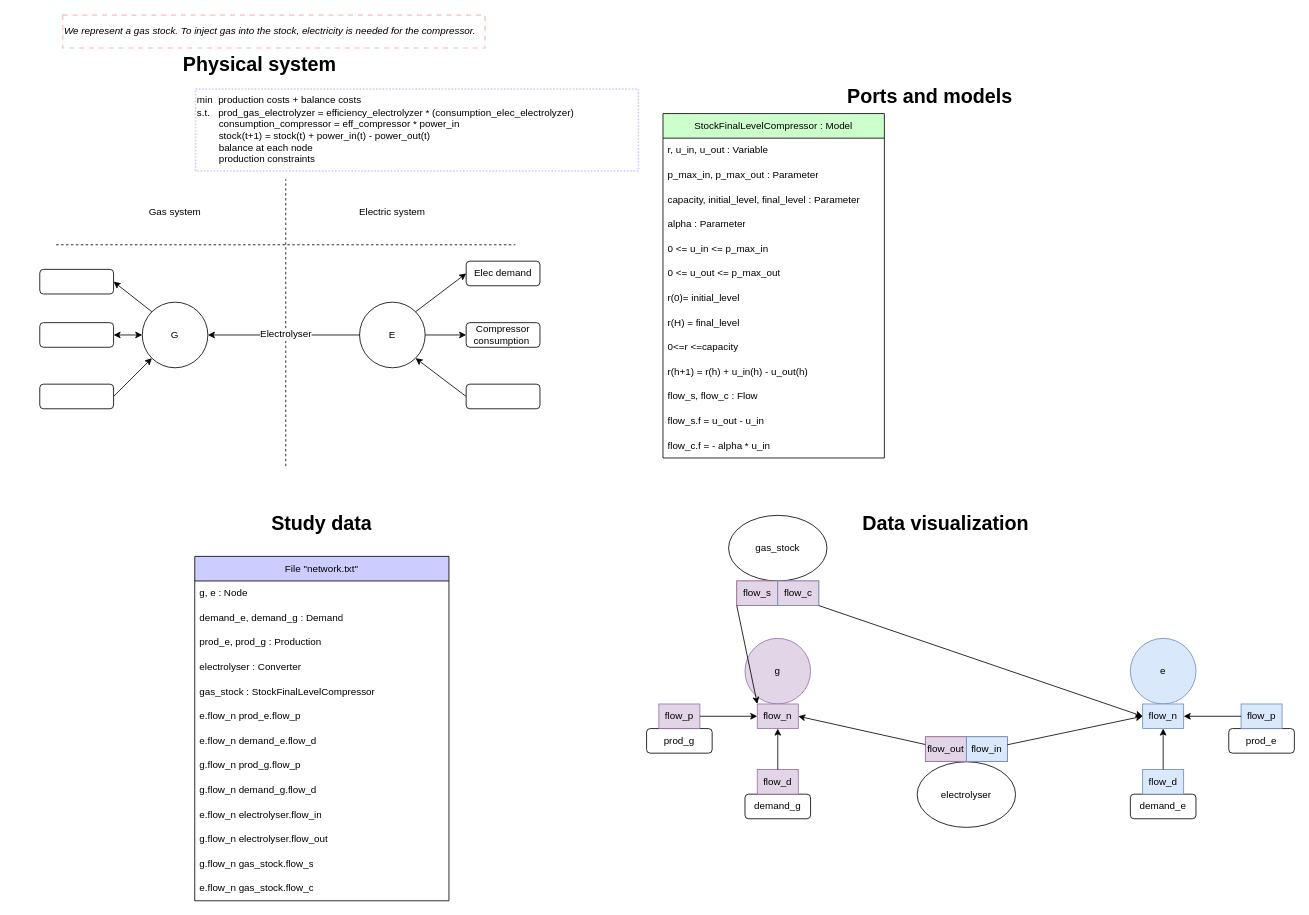
The diagram is 1309 pixels wide and 915 high, and some of its shapes have lost their labels. Here are the shapes that lost their labels. From the top down, the centre of each, then its label:
At point 76,281: "Gas demand".
At point 76,334: "Gas stock".
At point 76,396: "Gas production".
At point 502,396: "Elec production".
